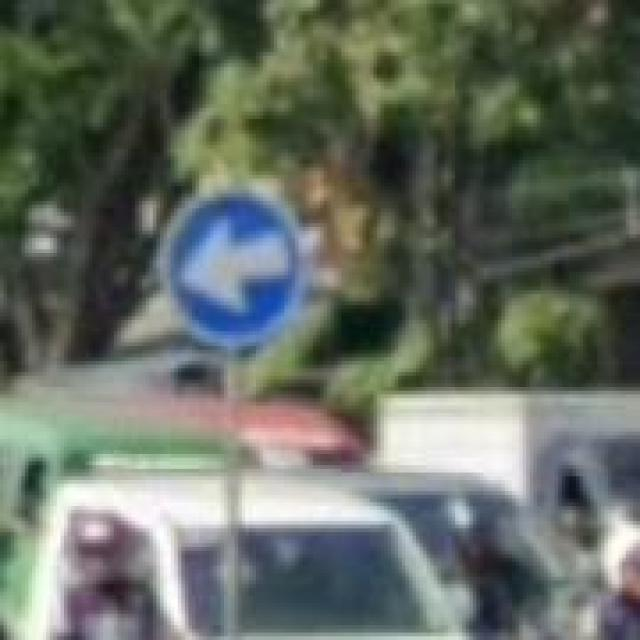traffic sign: (160, 197, 306, 346)
